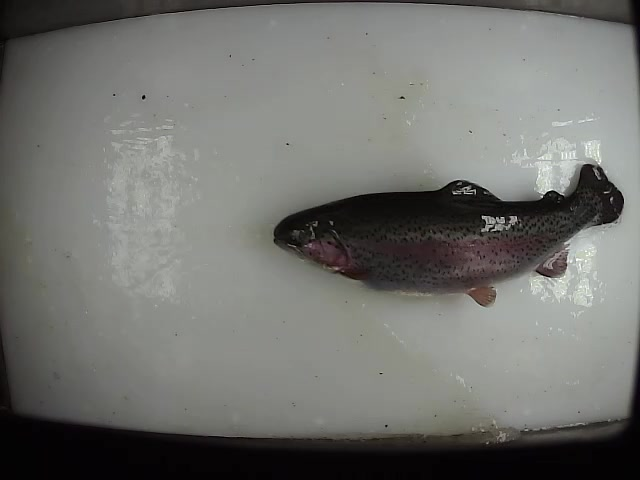fish: (269, 161, 626, 310)
